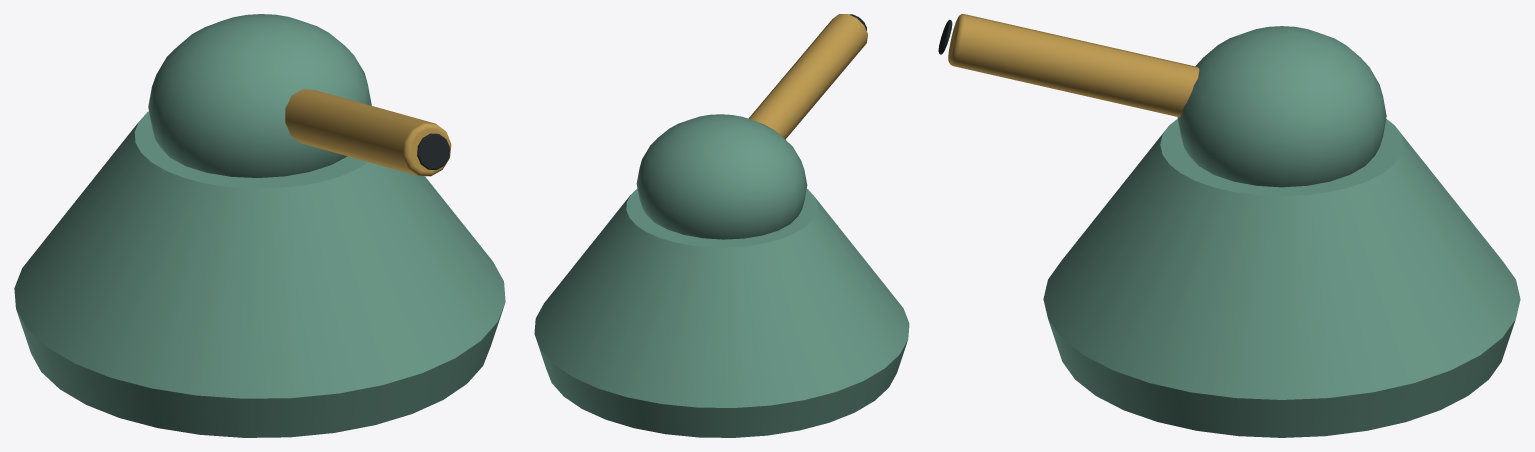
3 views of the same model, side by side, from view 1: azimuth 30°, elevation 25°; view 2: azimuth 150°, elevation 25°; view 3: azimuth 270°, elevation 25° (orthographic). The views are drawn at different scales.
Visible parts, largest first — view 1: Turret armoured pedestal, Weapon pivot, Weapon barrel, Weapon dark bore; view 2: Turret armoured pedestal, Weapon pivot, Weapon barrel; view 3: Turret armoured pedestal, Weapon pivot, Weapon barrel.
Boxes of the visible parts, left/top/right/bottom form: Turret armoured pedestal: left=14, top=111, right=505, bottom=437; Weapon pivot: left=148, top=14, right=371, bottom=177; Weapon barrel: left=285, top=89, right=451, bottom=176; Weapon dark bore: left=417, top=133, right=449, bottom=169; Turret armoured pedestal: left=534, top=188, right=909, bottom=437; Weapon pivot: left=636, top=114, right=807, bottom=239; Weapon barrel: left=748, top=14, right=867, bottom=139; Turret armoured pedestal: left=1043, top=119, right=1520, bottom=437; Weapon pivot: left=1177, top=26, right=1386, bottom=187; Weapon barrel: left=948, top=14, right=1199, bottom=117.
Bounding box in the file's own units: 1.96 × 1.48 × 2.39.
